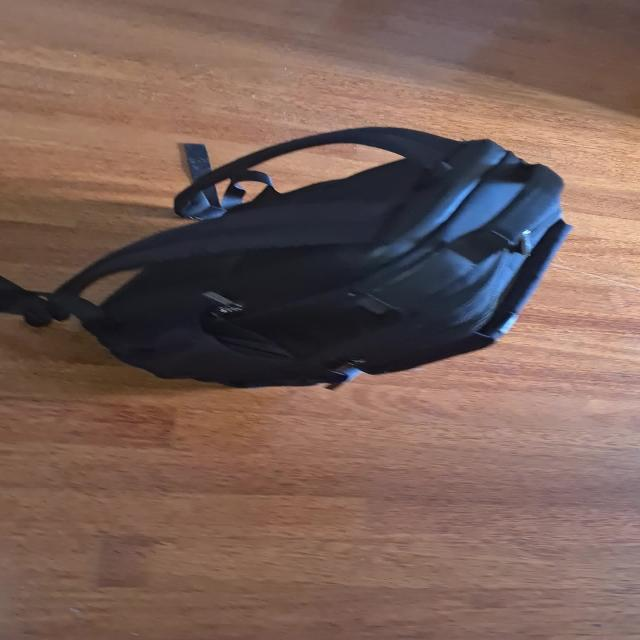backpack: (41, 114, 589, 386)
